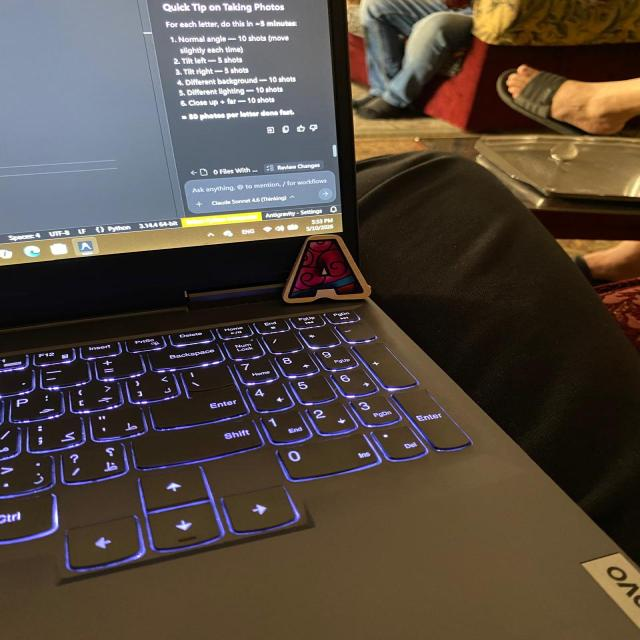A: (283, 235, 371, 303)
